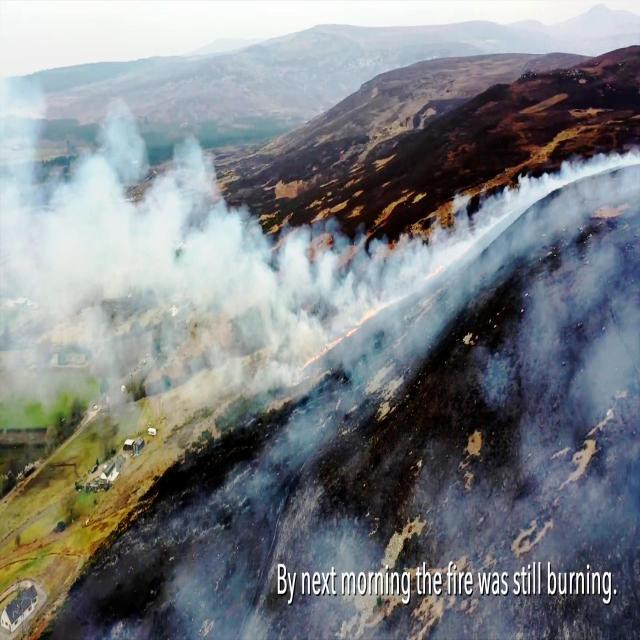Smoke: (0, 122, 138, 305), (216, 227, 332, 358), (127, 144, 220, 298), (406, 196, 472, 279), (340, 233, 390, 310), (486, 175, 530, 217), (532, 162, 574, 196), (581, 152, 627, 180)
